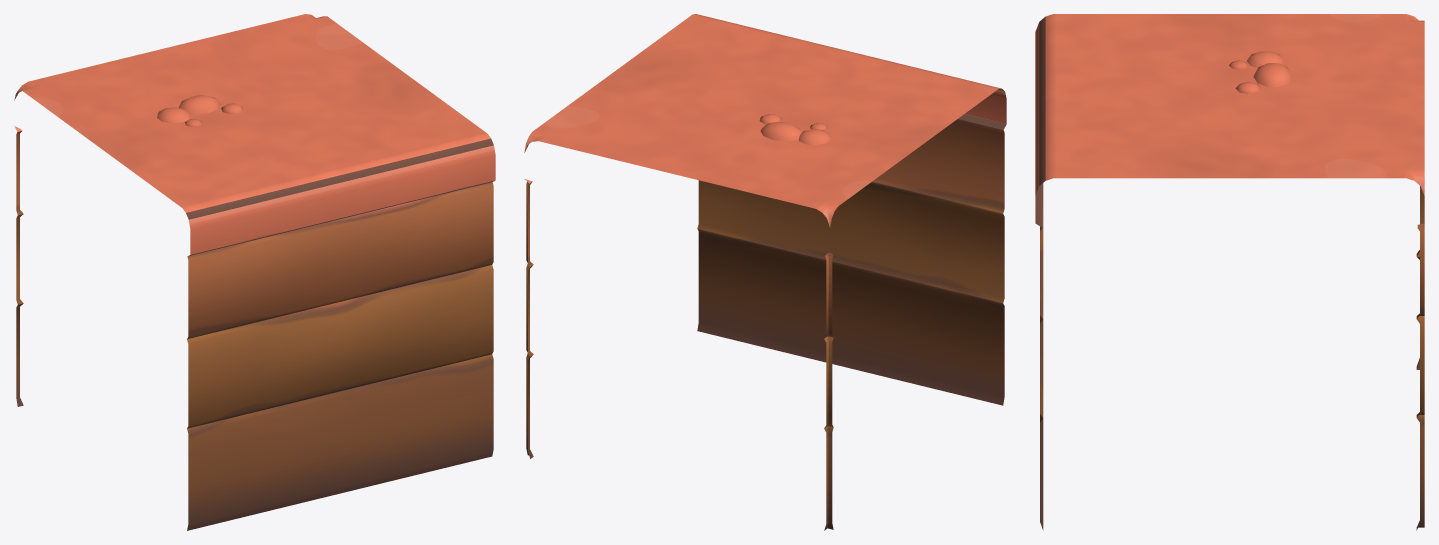
File: wall_t.glb
3 renders of one model, left to right at view 1: azimuth 30°, elevation 25°; view 2: azimuth 150°, elevation 25°; view 3: azimuth 270°, elevation 25°, orthographic. The views are drawn at different scales.
Parts seen in each view (by area): view 1: wall_t; view 2: wall_t; view 3: wall_t.
Boxes of the visible parts, bbox=[...] form: wall_t: bbox=[14, 14, 495, 530]; wall_t: bbox=[524, 14, 1006, 530]; wall_t: bbox=[1035, 14, 1424, 530].
Bounding box in the file's own units: 1 × 1.03 × 1.
Materials: 2 (2 with a texture image).
